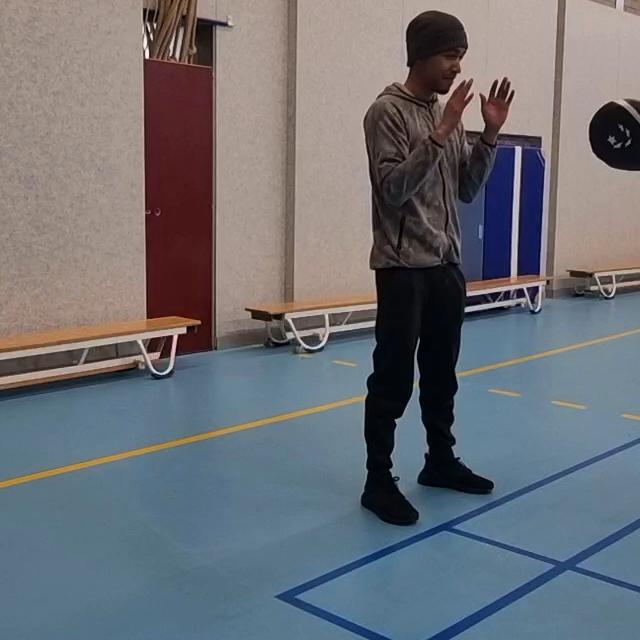paddle: (579, 85, 640, 178)
